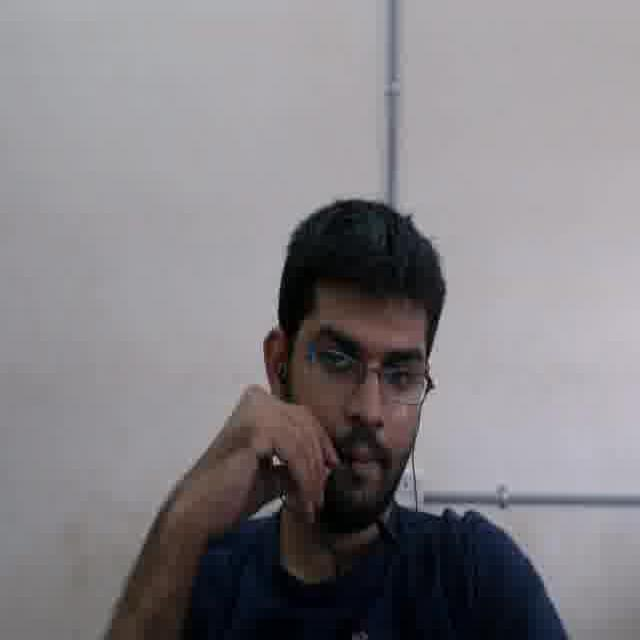Engaged: (290, 284, 428, 513)
